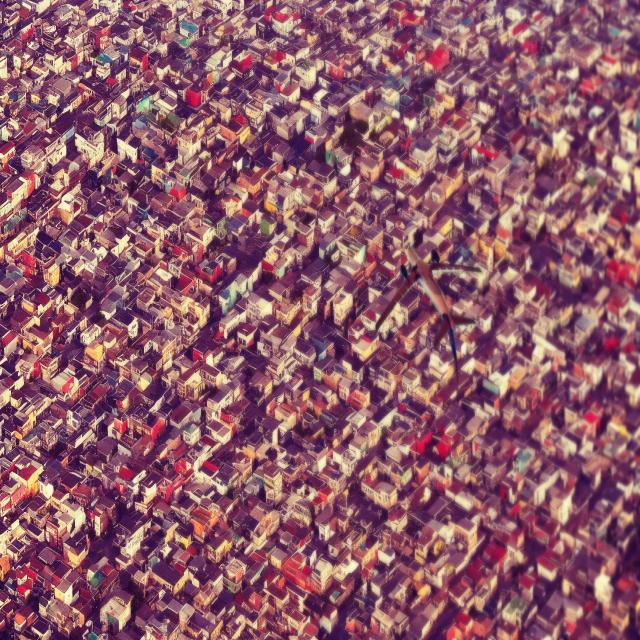airplane: (376, 248, 482, 380)
